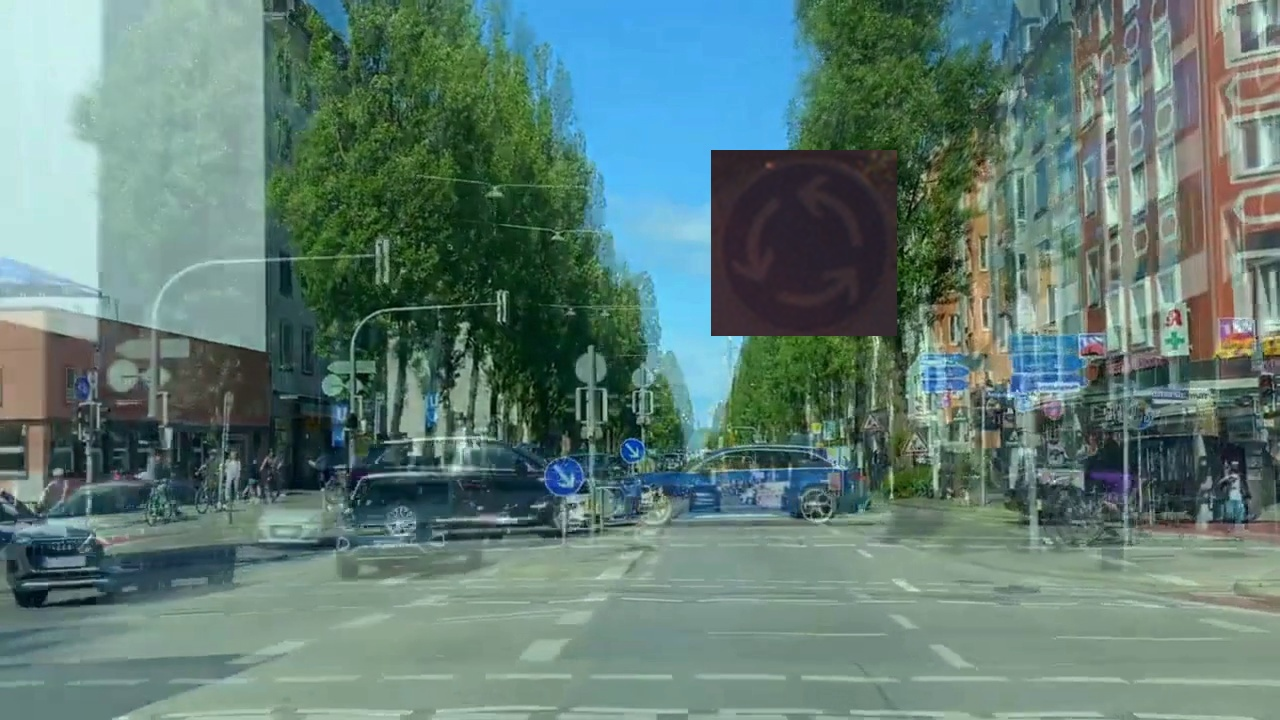Roundabout: (711, 150, 897, 336)
